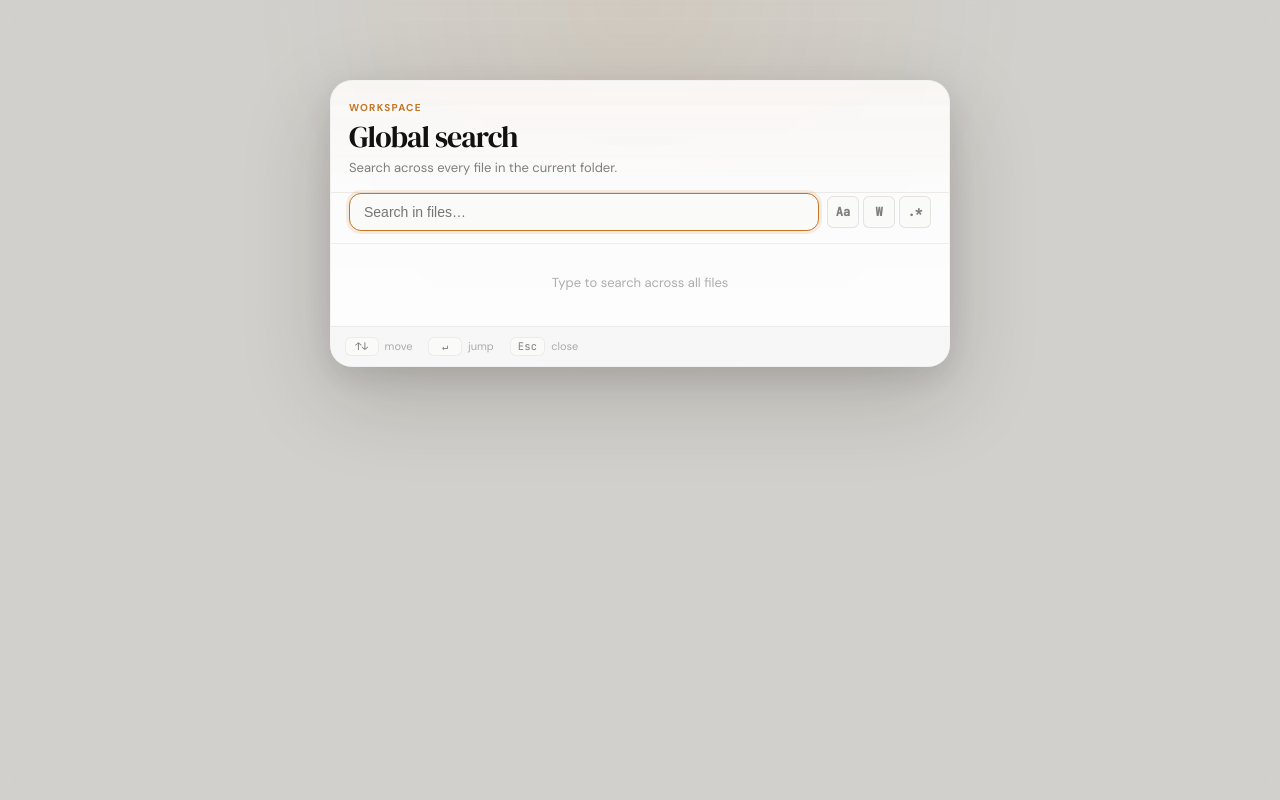
Test: GlobalSearch › shows normal no-results messaging when a folder is open
The width and height of the screenshot is (1280, 800).
Step 1. Type "flow" into the field named "Search query" → [584, 212], box top-left (349, 193), bottom-right (819, 231)
Wait 300 ms
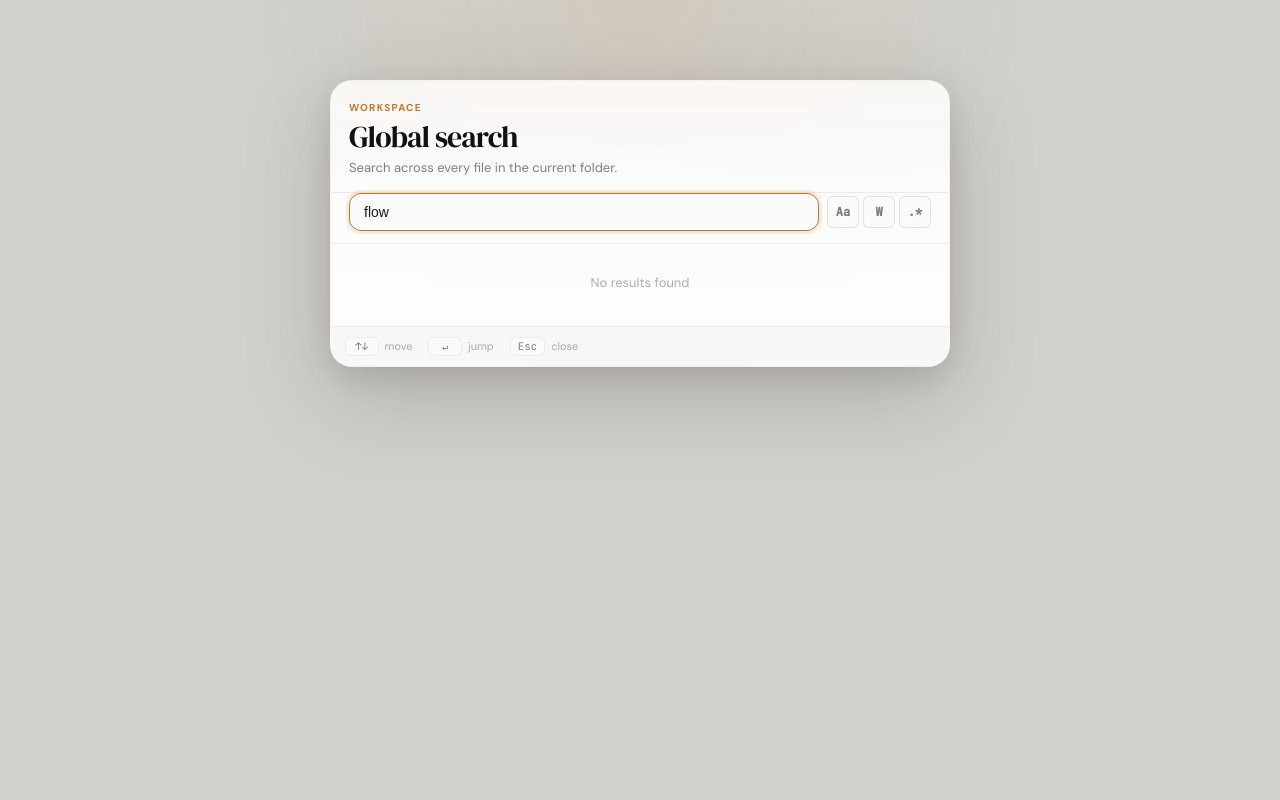
Now the text "No results found" is shown, box top-left (590, 274), bottom-right (690, 291)
